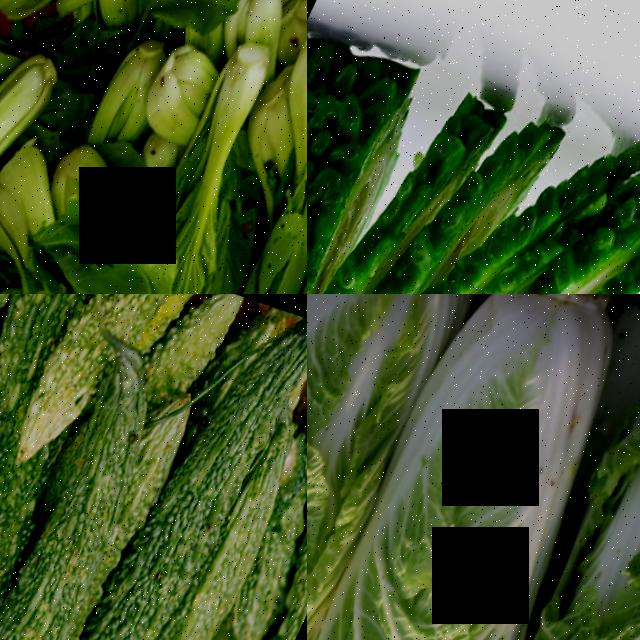bitter gourd: (363, 54, 640, 294), (85, 347, 302, 640), (0, 363, 192, 640), (307, 0, 436, 294), (27, 312, 128, 448), (273, 409, 307, 638)
bok choy: (155, 39, 302, 255), (0, 0, 263, 101), (0, 35, 67, 294), (251, 72, 307, 292), (0, 227, 181, 294), (133, 47, 231, 151)
cabbage: (307, 294, 640, 640), (423, 304, 640, 640), (307, 294, 488, 640)
